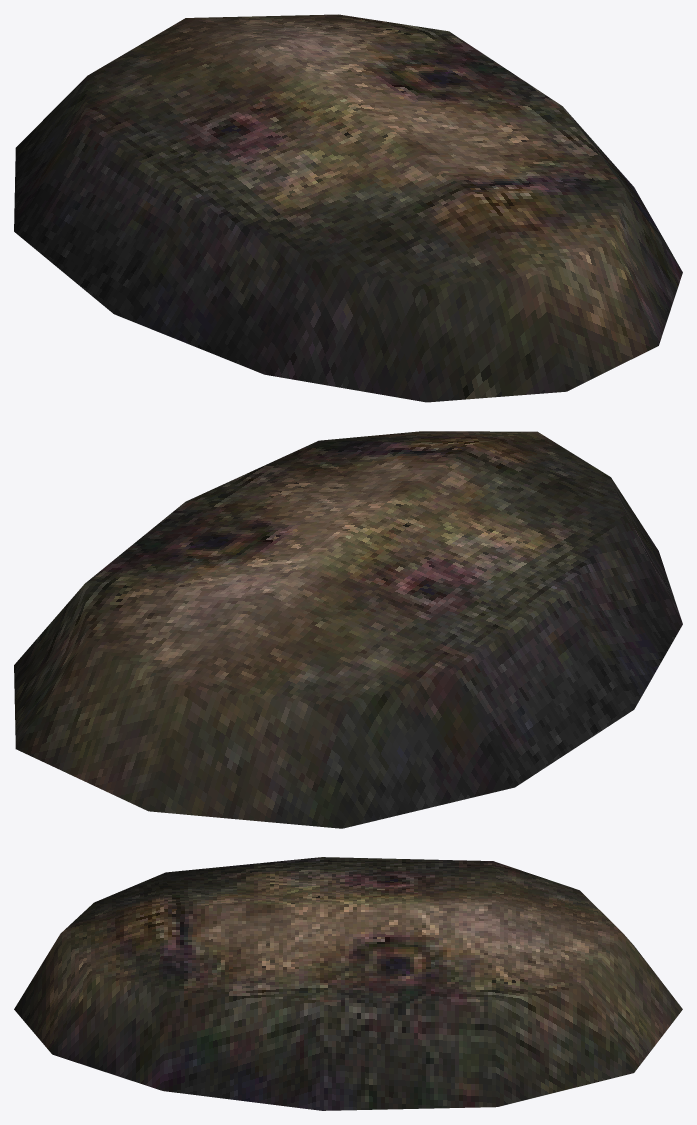
File: bright_mask.glb
The picture shows the model from 3 angles, top to bottom: view 1: azimuth 30°, elevation 25°; view 2: azimuth 150°, elevation 25°; view 3: azimuth 270°, elevation 25°; orthographic projection. The views are drawn at different scales.
Visible parts, largest first — view 1: mask_mx_3_1; view 2: mask_mx_3_1; view 3: mask_mx_3_1.
Boxes of the visible parts, x1,y1,x2,y2 form: mask_mx_3_1: [14, 14, 682, 402]; mask_mx_3_1: [14, 431, 682, 828]; mask_mx_3_1: [14, 857, 682, 1110].
Size of the model in its own units: 0.2297 by 0.0554 by 0.3198.
1 material, 1 textured.
